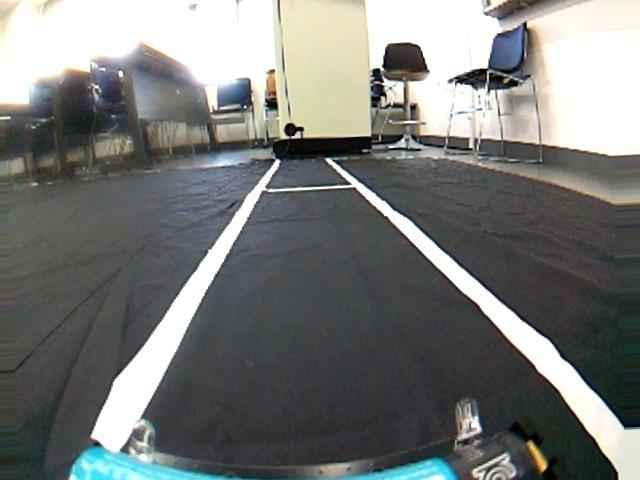straight: (3, 174, 640, 480)
